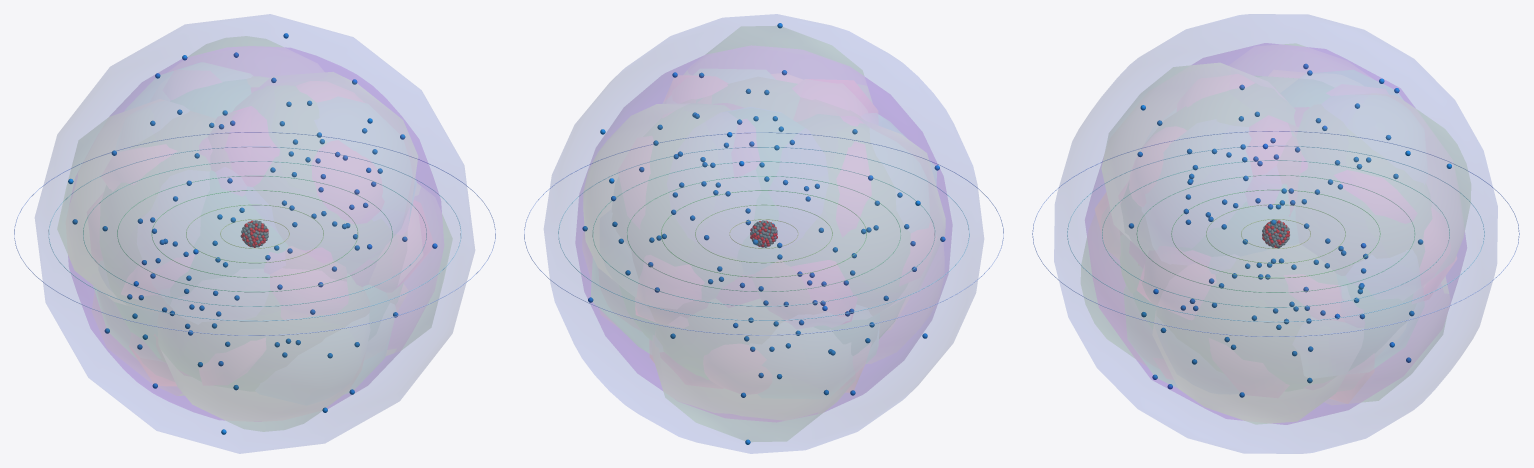
The picture shows the model from 3 angles, left to right: view 1: azimuth 30°, elevation 25°; view 2: azimuth 150°, elevation 25°; view 3: azimuth 270°, elevation 25°; orthographic projection.
Parts seen in each view (by area): view 1: Orbital_7s_0, Orbital_6s_0, Orbital_7p_1, Orbital_7p_2, Orbital_7p_0, Nivel_n7, Nivel_n6, Nivel_n5, Nivel_n4, Nivel_n3; view 2: Orbital_7s_0, Orbital_6s_0, Orbital_7p_0, Orbital_7p_2, Orbital_7p_1, Nivel_n7, Nivel_n6, Nivel_n5, Nivel_n4, Nivel_n3; view 3: Orbital_7s_0, Orbital_6s_0, Orbital_7p_0, Orbital_7p_2, Orbital_7p_1, Nivel_n7, Nivel_n6, Nivel_n5, Nivel_n4, Nivel_n3.
Part boxes in pixels (x1,y1,x2,y2): Orbital_7s_0: (35, 14, 474, 453); Orbital_6s_0: (68, 46, 443, 419); Orbital_7p_1: (58, 99, 451, 355); Orbital_7p_2: (162, 36, 363, 431); Orbital_7p_0: (180, 72, 417, 395); Nivel_n7: (14, 132, 495, 335); Nivel_n6: (48, 146, 461, 321); Nivel_n5: (83, 161, 426, 306); Nivel_n4: (117, 175, 392, 292); Nivel_n3: (151, 190, 358, 277); Orbital_7s_0: (544, 14, 983, 453); Orbital_6s_0: (576, 46, 951, 421); Orbital_7p_0: (652, 26, 871, 441); Orbital_7p_2: (584, 104, 686, 276); Orbital_7p_1: (860, 119, 944, 303); Nivel_n7: (524, 132, 1003, 335); Nivel_n6: (558, 147, 969, 320); Nivel_n5: (592, 161, 935, 306); Nivel_n4: (627, 176, 900, 291); Nivel_n3: (661, 190, 866, 277); Orbital_7s_0: (1054, 14, 1497, 453); Orbital_6s_0: (1085, 43, 1466, 424); Orbital_7p_0: (1102, 63, 1448, 401); Orbital_7p_2: (1081, 94, 1470, 356); Orbital_7p_1: (1153, 44, 1344, 423); Nivel_n7: (1032, 131, 1519, 336); Nivel_n6: (1067, 145, 1484, 322); Nivel_n5: (1102, 160, 1449, 307); Nivel_n4: (1136, 175, 1415, 292); Nivel_n3: (1171, 189, 1380, 278).
Bounding box in the file's own units: 2.1 × 1.92 × 2.1.
